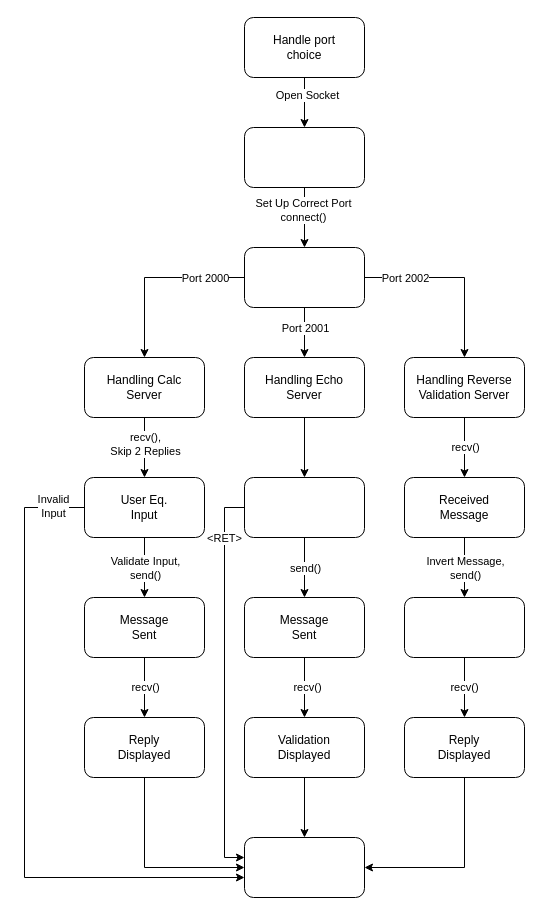
The diagram is 542 pixels wide and 915 high, and some of its shapes have lost their labels. The shapes that lost their labels are listed below. From the top down, each one's centre as x and y in pixels, then its label:
pixel 304 157: Socket Ready
pixel 304 277: Connected
pixel 304 507: User Input
pixel 464 627: Inverted Message Sent
pixel 304 867: Close Socket
